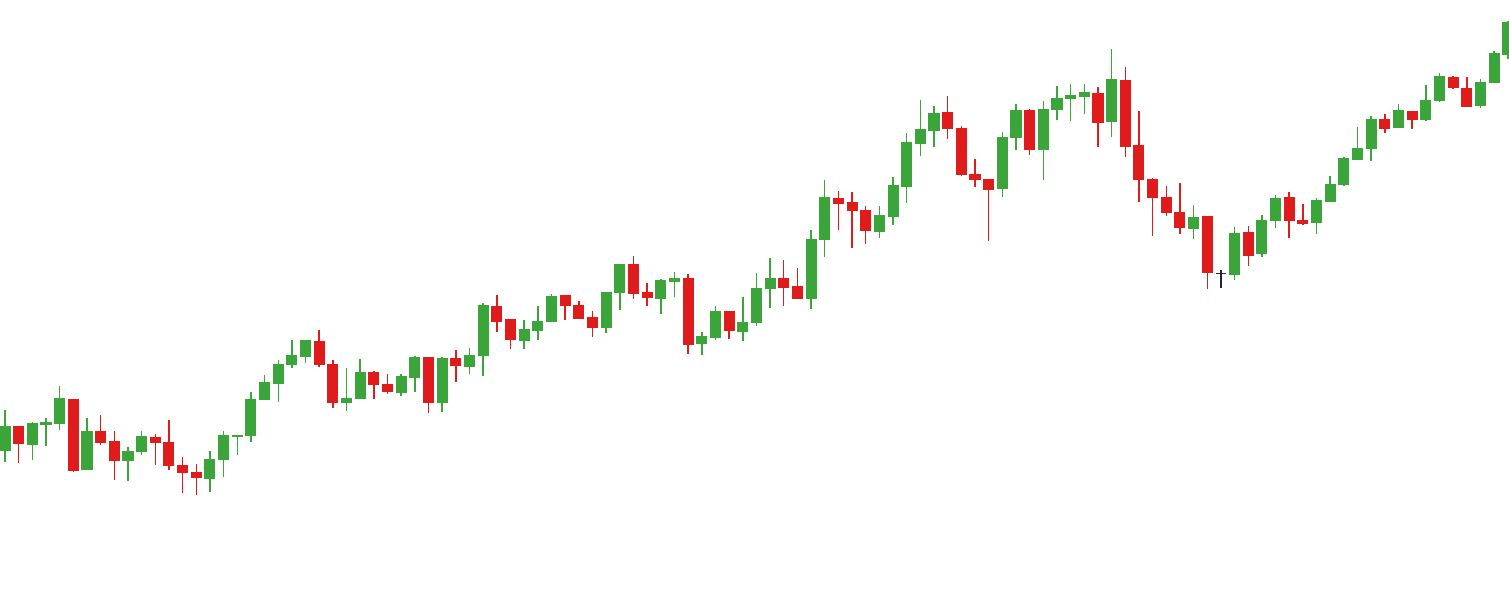buy: (585, 283, 723, 358), (104, 435, 218, 494)
